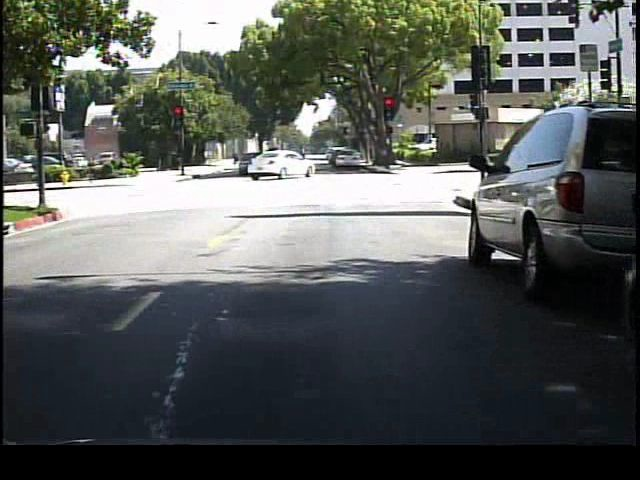person: (295, 142, 311, 176)
